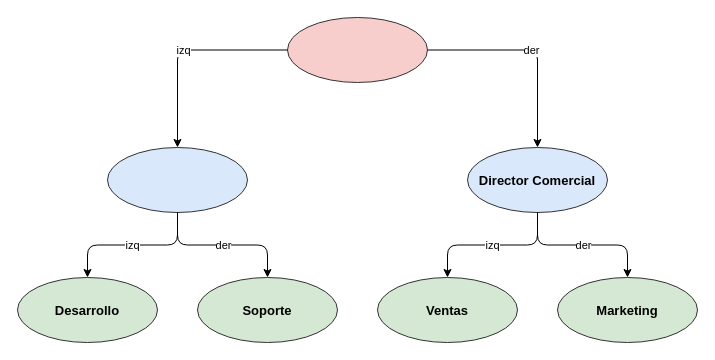
This 715x360 diagram has some shape labels left out. The shapes that lost their labels are listed below. From the top down, each one's centre as x and y in pixels, then its label:
At [357,49]: "Gerente General".
At [177,179]: "Director Técnico".
